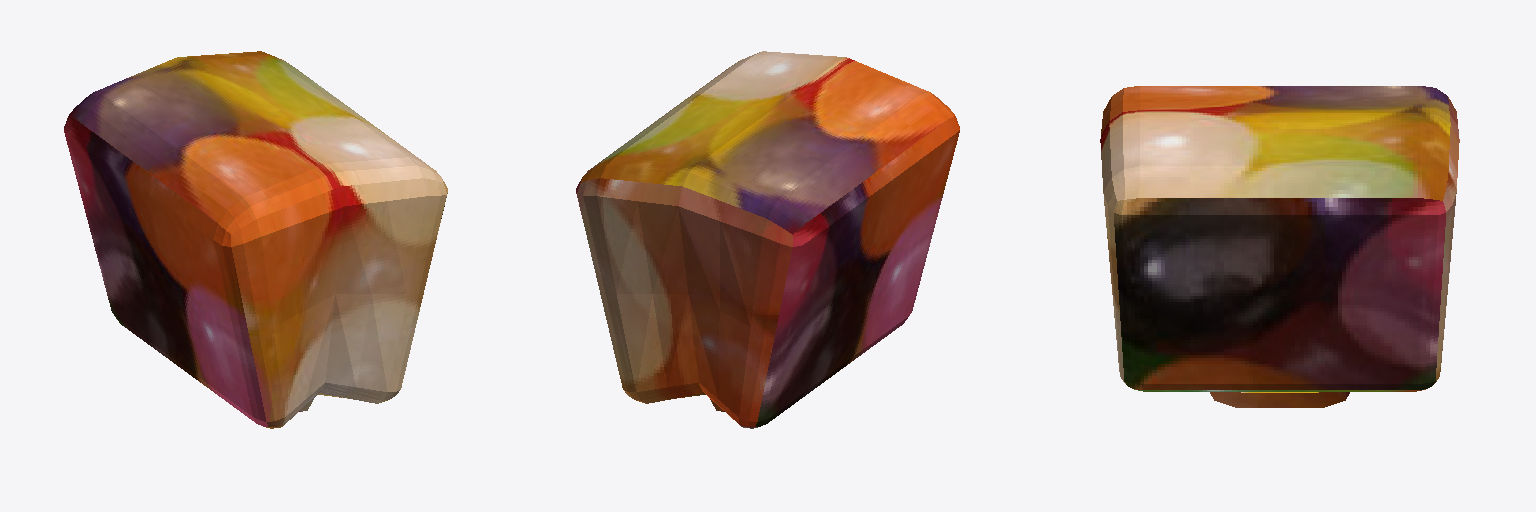
The picture shows the model from 3 angles: view 1: azimuth 30°, elevation 25°; view 2: azimuth 150°, elevation 25°; view 3: azimuth 270°, elevation 25°; orthographic projection.
Parts seen in each view (by area): view 1: Group24267; view 2: Group24267; view 3: Group24267, Group24282.
Boxes of the visible parts, <box> form: Group24267: <box>64,51,447,428</box>; Group24267: <box>576,51,959,428</box>; Group24267: <box>1100,86,1459,391</box>; Group24282: <box>1210,392,1349,407</box>.
Size of the model in its own units: 2.37 by 2.81 by 3.2.
1 materials, 1 textured.